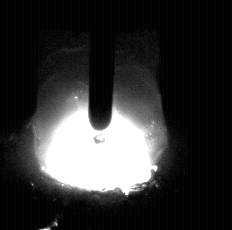arame: (89, 0, 114, 130)
poca: (32, 0, 169, 230)
